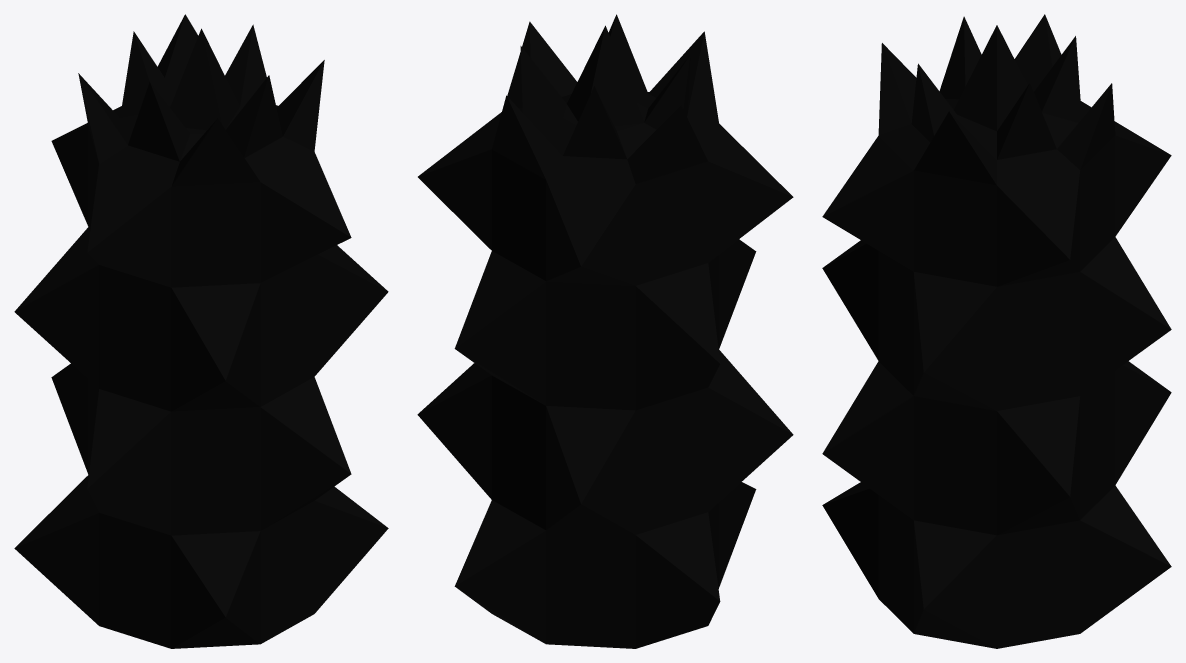
Rendered from Obstacles.obj.
3 renders of one model, left to right at view 1: azimuth 30°, elevation 25°; view 2: azimuth 150°, elevation 25°; view 3: azimuth 270°, elevation 25°, orthographic.
Visible parts, largest first — view 1: 立方体.003_立方体.009; view 2: 立方体.003_立方体.009; view 3: 立方体.003_立方体.009.
Part boxes in pixels (bbox=[...]): 立方体.003_立方体.009: bbox=[14, 14, 388, 648]; 立方体.003_立方体.009: bbox=[417, 14, 793, 648]; 立方体.003_立方体.009: bbox=[822, 14, 1171, 648].
Bounding box in the file's own units: 4.15 × 7.54 × 4.16.
1 material, 1 textured.
